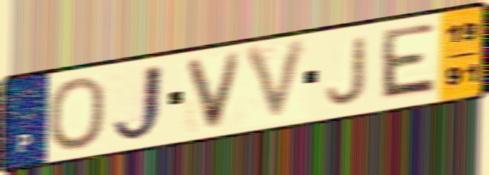E: (376, 20, 440, 103)
J: (108, 60, 168, 145), (323, 33, 372, 108)
O: (46, 74, 109, 154)
V: (241, 35, 312, 127), (182, 48, 247, 133)
